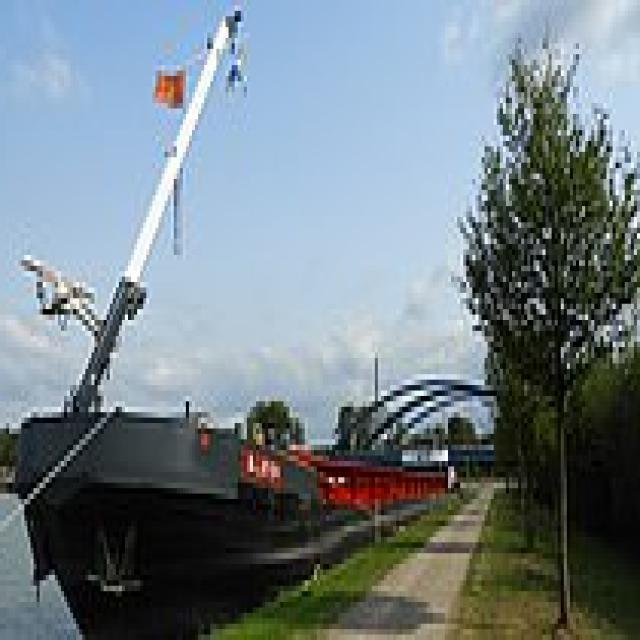Cargo: (18, 0, 457, 635)
